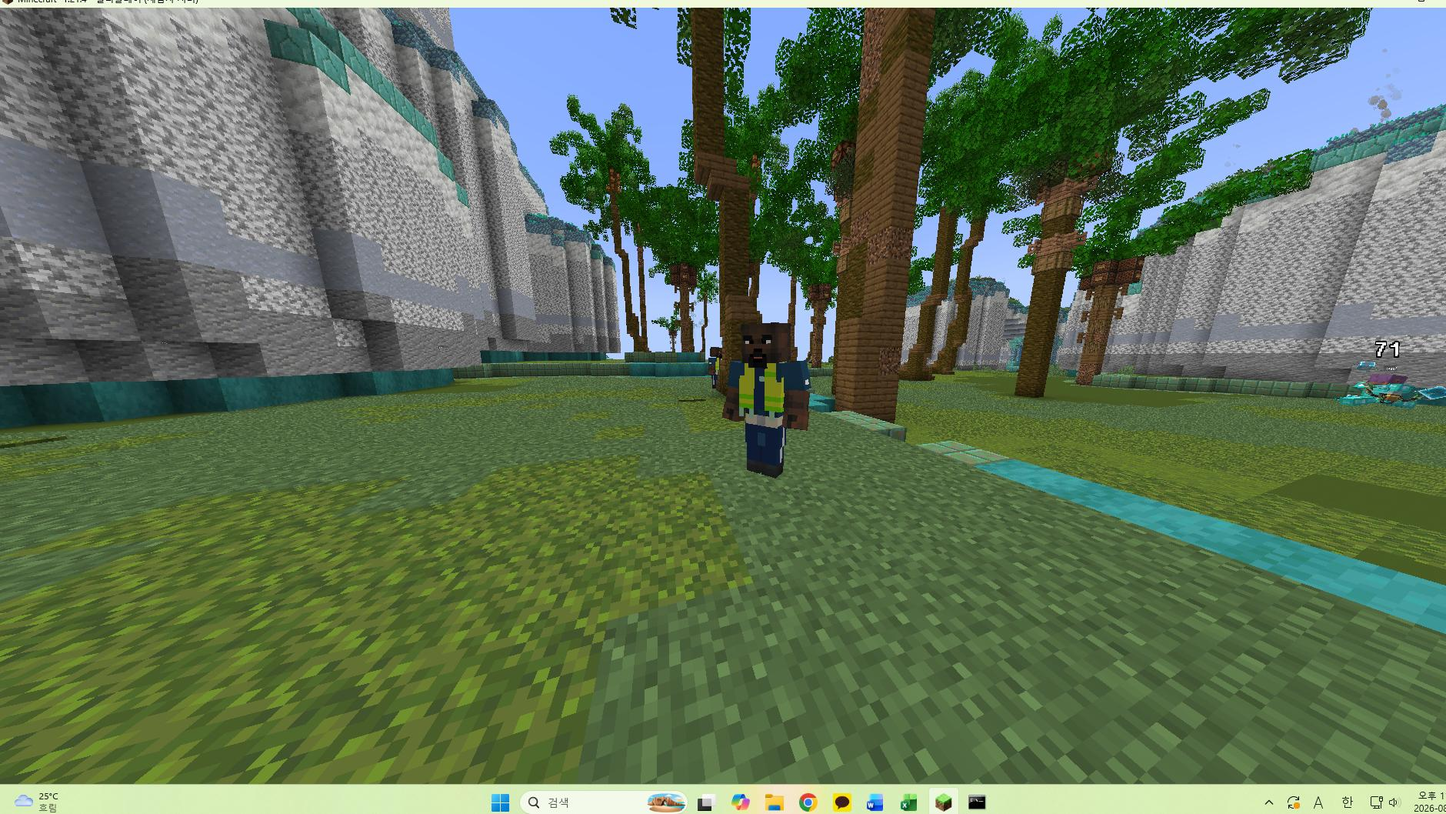Guardian: (724, 322, 808, 478)
